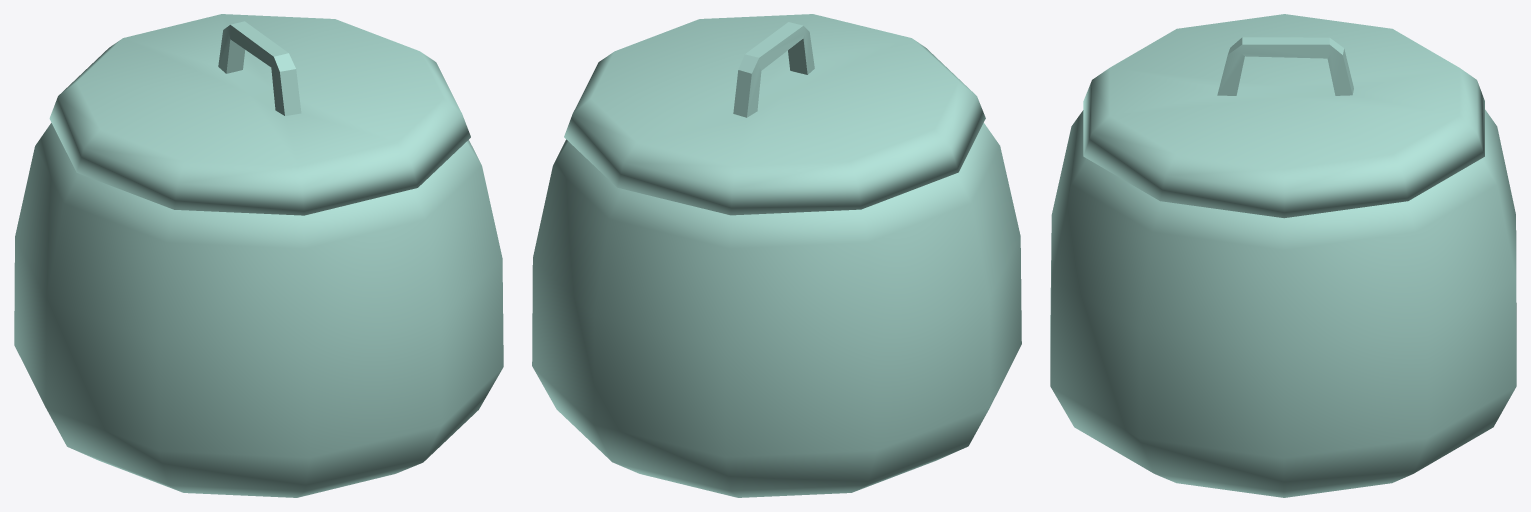
File: garbage_can_04.fbx
3 renders of one model, left to right at view 1: azimuth 30°, elevation 25°; view 2: azimuth 150°, elevation 25°; view 3: azimuth 270°, elevation 25°, orthographic.
Visible parts, largest first — view 1: pCylinder33, polySurface33; view 2: pCylinder33, polySurface33; view 3: pCylinder33, polySurface33.
Part boxes in pixels (box(x1,y1,x2,y2)): pCylinder33: box(14, 123, 503, 497); polySurface33: box(49, 14, 470, 215); pCylinder33: box(532, 123, 1021, 497); polySurface33: box(564, 14, 985, 215); pCylinder33: box(1050, 109, 1516, 497); polySurface33: box(1083, 14, 1484, 218).
Size of the model in its own units: 150 by 131 by 143.
